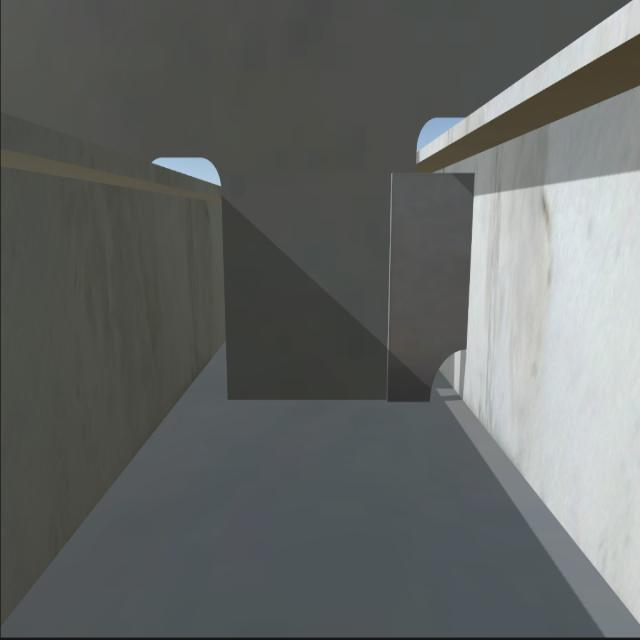fillet_hole: (428, 348, 468, 404)
fillet_yong_jeop_jang: (229, 392, 432, 406)
longi_yong_jeop_jang: (466, 175, 478, 348)
plate_CP01: (388, 171, 469, 398)
